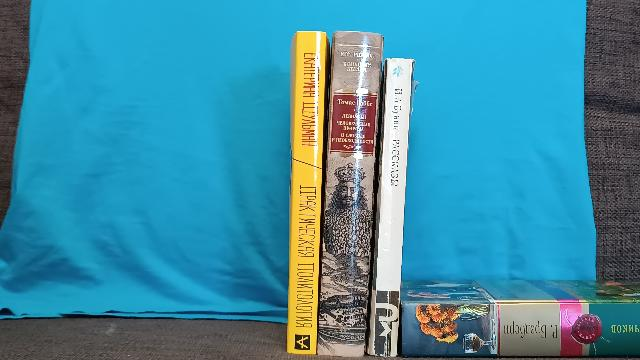book-s-spine: (317, 31, 384, 358), (401, 303, 640, 358), (287, 31, 326, 356), (372, 58, 412, 358)
